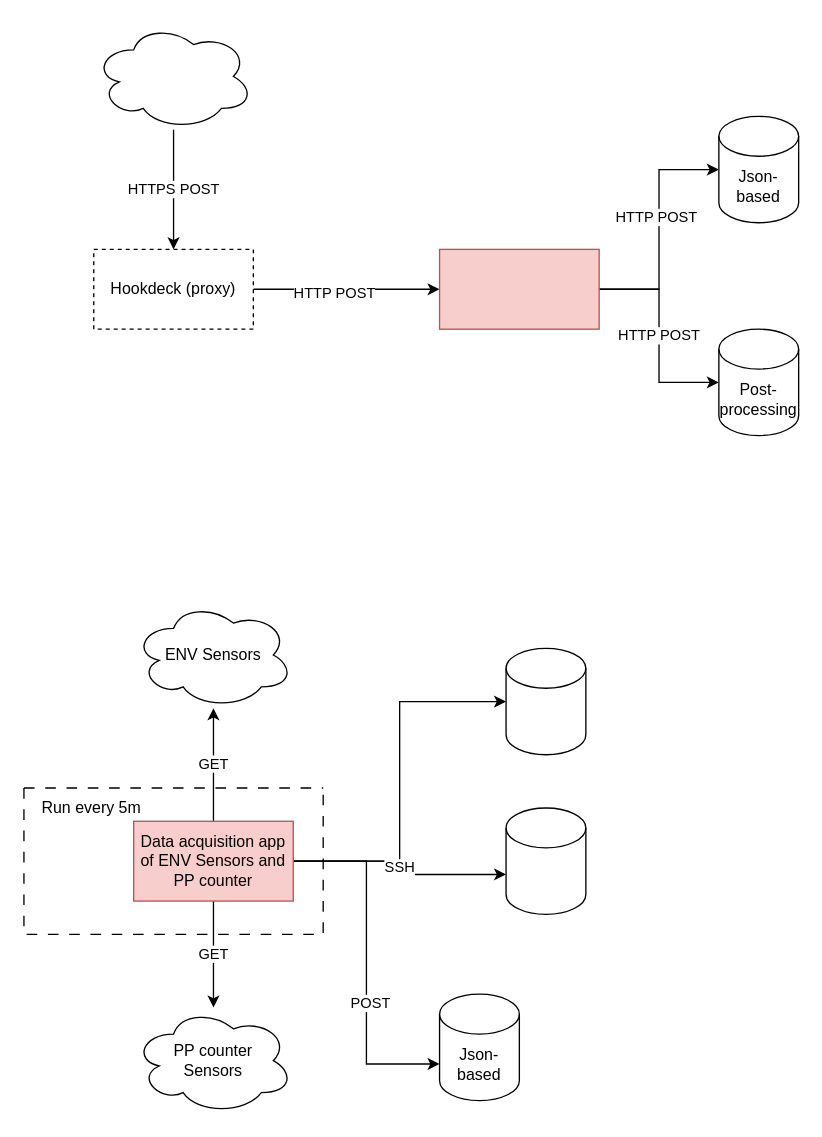
Some shapes in this 822 by 1137 pixel diagram are drawn without their labels. Here are the shapes that lost their labels. From the top down, the box of each, then its label:
(92, 22, 253, 130): XY Sense data (webhook)
(438, 248, 599, 329): Data acquisition app of XY Sense
(505, 647, 586, 755): Post-processing ENV
(505, 807, 586, 914): Post-processing PP
